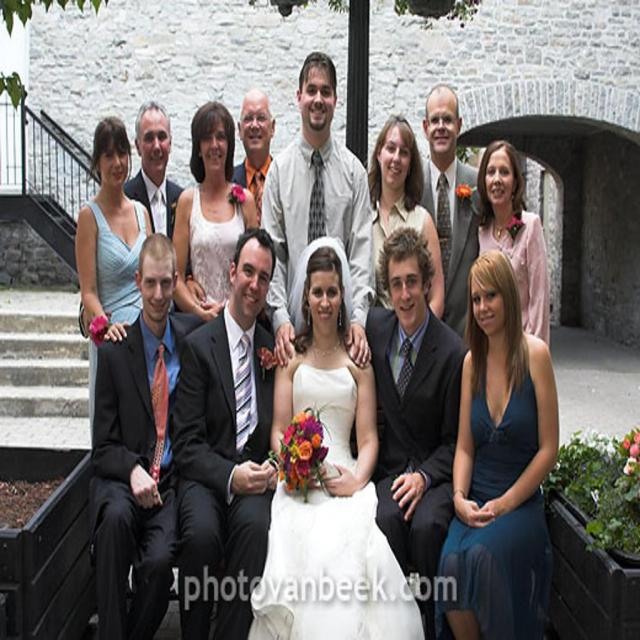Face: (468, 248, 519, 349), (301, 259, 360, 342), (381, 250, 432, 333), (234, 231, 280, 320), (193, 103, 237, 188), (133, 243, 181, 319), (300, 61, 344, 136), (422, 94, 468, 156), (136, 103, 175, 174), (375, 130, 420, 188), (480, 145, 519, 211), (243, 91, 279, 161), (97, 130, 133, 188)
